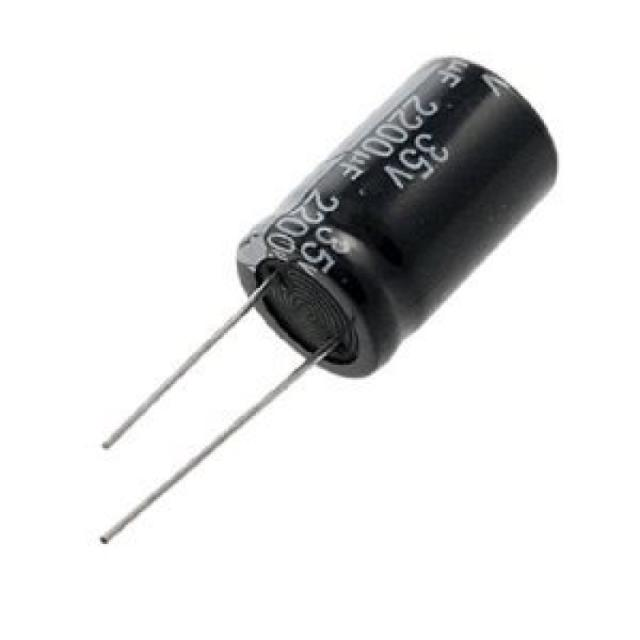Capacitor: (99, 58, 561, 546)
